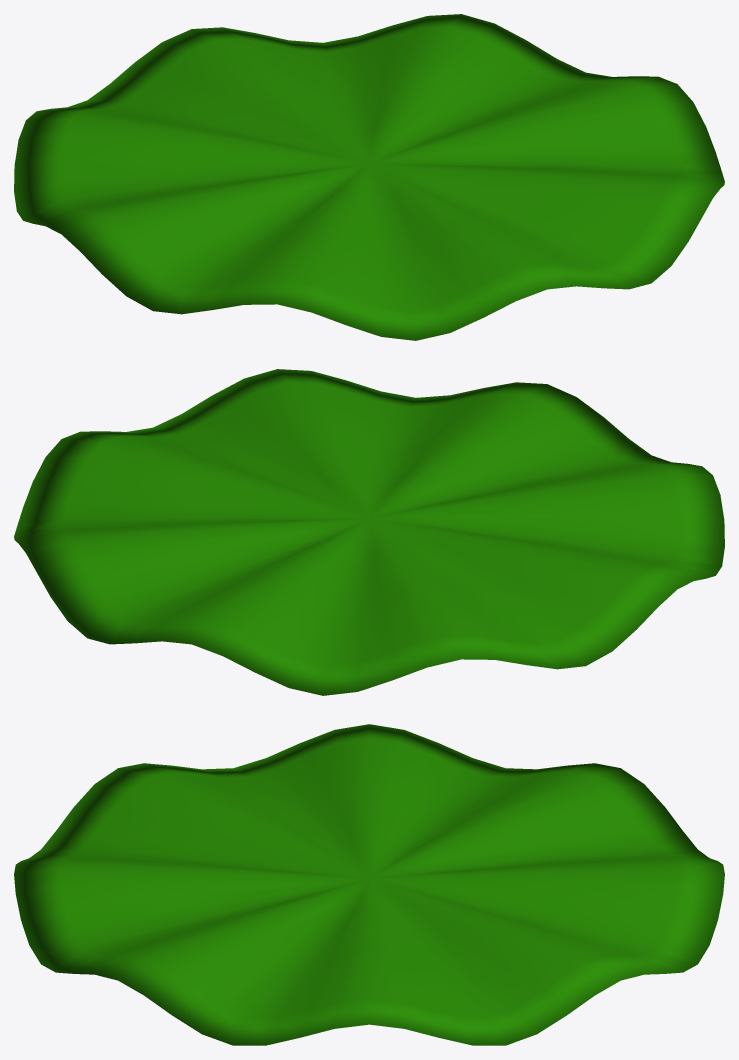
File: salade.fbx
3 renders of one model, top to bottom at view 1: azimuth 30°, elevation 25°; view 2: azimuth 150°, elevation 25°; view 3: azimuth 270°, elevation 25°, orthographic.
Parts seen in each view (by area): view 1: Cylinder; view 2: Cylinder; view 3: Cylinder.
Part boxes in pixels (bbox=[...]): Cylinder: bbox=[14, 14, 724, 340]; Cylinder: bbox=[14, 369, 724, 695]; Cylinder: bbox=[14, 724, 724, 1045].
Size of the model in its own units: 190 by 12.94 by 190.
